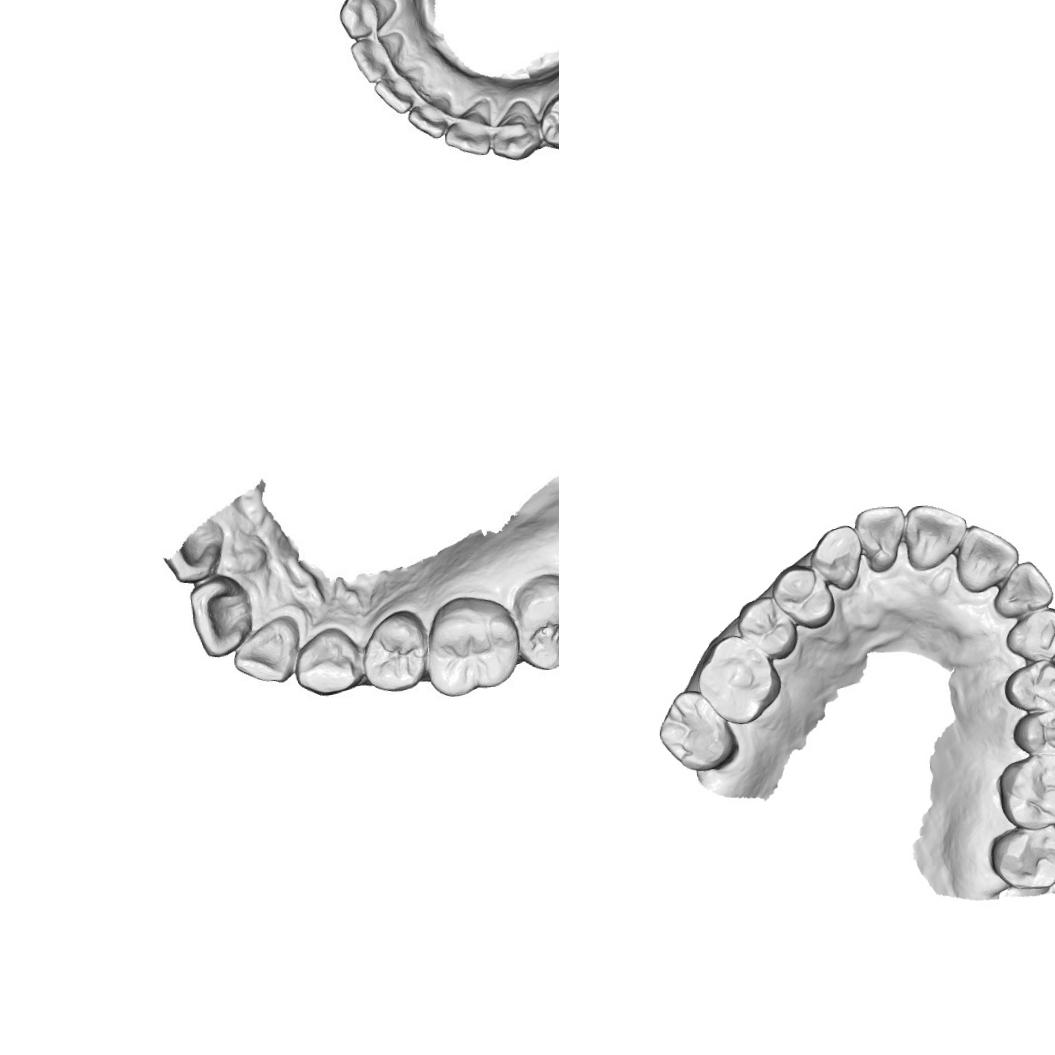canine: (294, 626, 363, 699), (808, 521, 868, 595), (490, 96, 548, 160), (999, 602, 1055, 666), (333, 0, 402, 39)
incisor: (899, 498, 972, 574), (190, 572, 255, 657), (230, 610, 304, 684), (952, 518, 1022, 594), (989, 555, 1055, 621), (854, 501, 908, 574), (350, 30, 419, 82), (445, 103, 497, 157), (374, 66, 433, 112), (407, 90, 457, 138)
molar: (424, 594, 522, 698), (692, 631, 784, 726), (655, 685, 739, 775), (992, 750, 1055, 831), (986, 821, 1055, 893), (510, 569, 559, 666)
premolar: (362, 608, 428, 690), (770, 562, 838, 632), (736, 590, 800, 662), (999, 654, 1055, 715), (1008, 703, 1055, 760), (540, 86, 559, 150)
